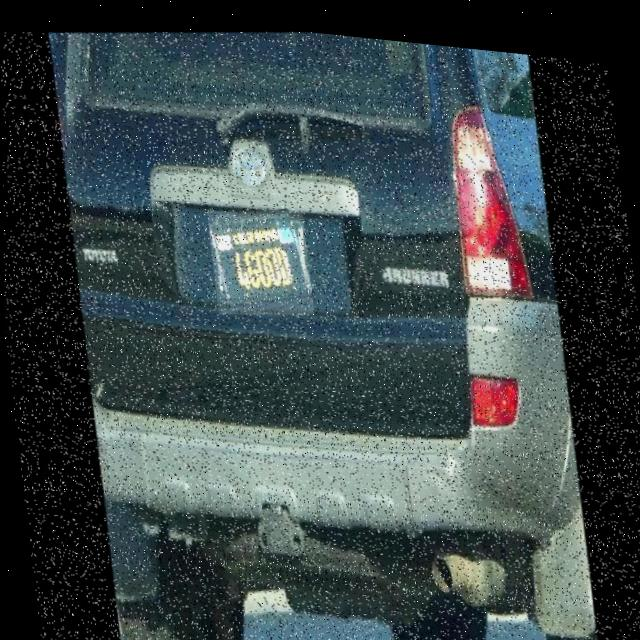LicensePlate: (206, 196, 313, 317)
